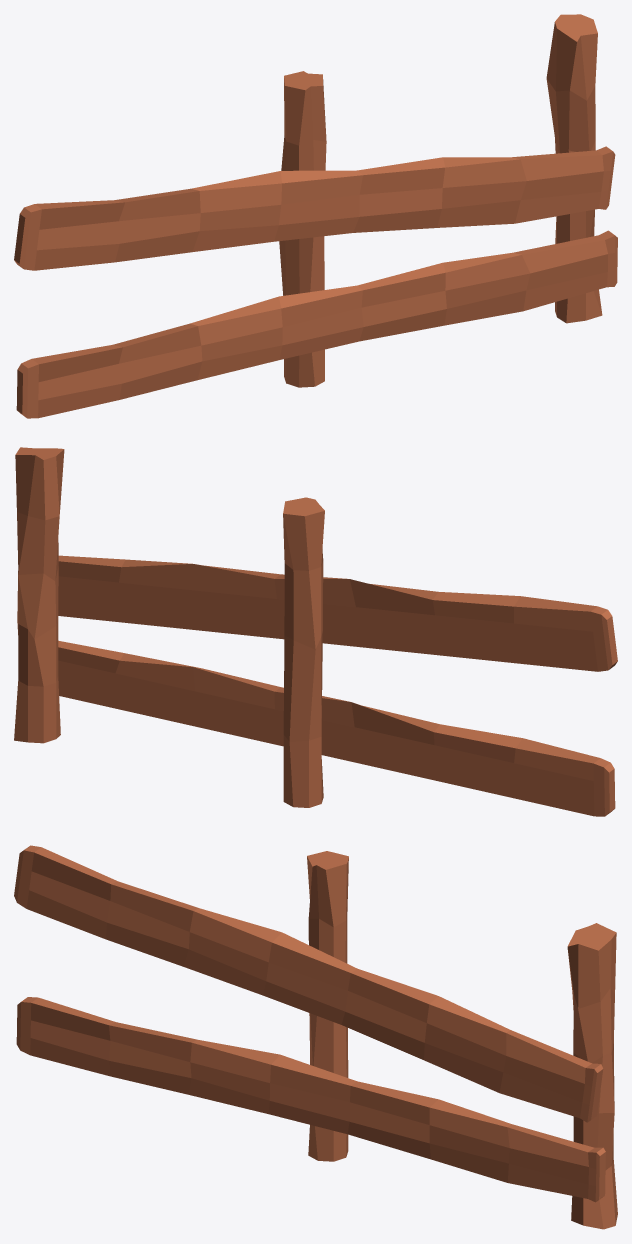
Rendered from Cerca Conector 6.fbx.
The picture shows the model from 3 angles, top to bottom: view 1: azimuth 30°, elevation 25°; view 2: azimuth 150°, elevation 25°; view 3: azimuth 330°, elevation 25°; orthographic projection. The views are drawn at different scales.
Visible parts, largest first — view 1: Cerca Conector; view 2: Cerca Conector; view 3: Cerca Conector.
Boxes of the visible parts, x1,y1,x2,y2 form: Cerca Conector: (14,14,617,418); Cerca Conector: (14,447,617,816); Cerca Conector: (14,845,617,1229).
Size of the model in its own units: 995 by 481 by 104.
